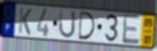3: (103, 12, 120, 44)
4: (36, 7, 51, 38)
D: (78, 10, 97, 41)
E: (121, 13, 141, 46)
K: (17, 7, 33, 37)
U: (58, 9, 77, 40)
